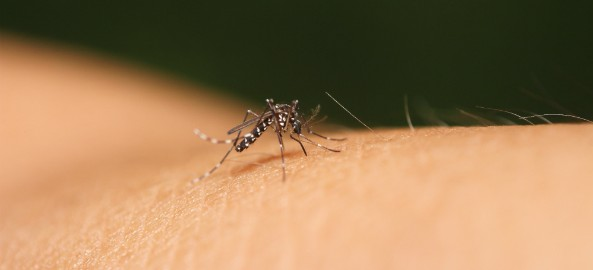dengue_mosquito: (195, 98, 343, 180)
